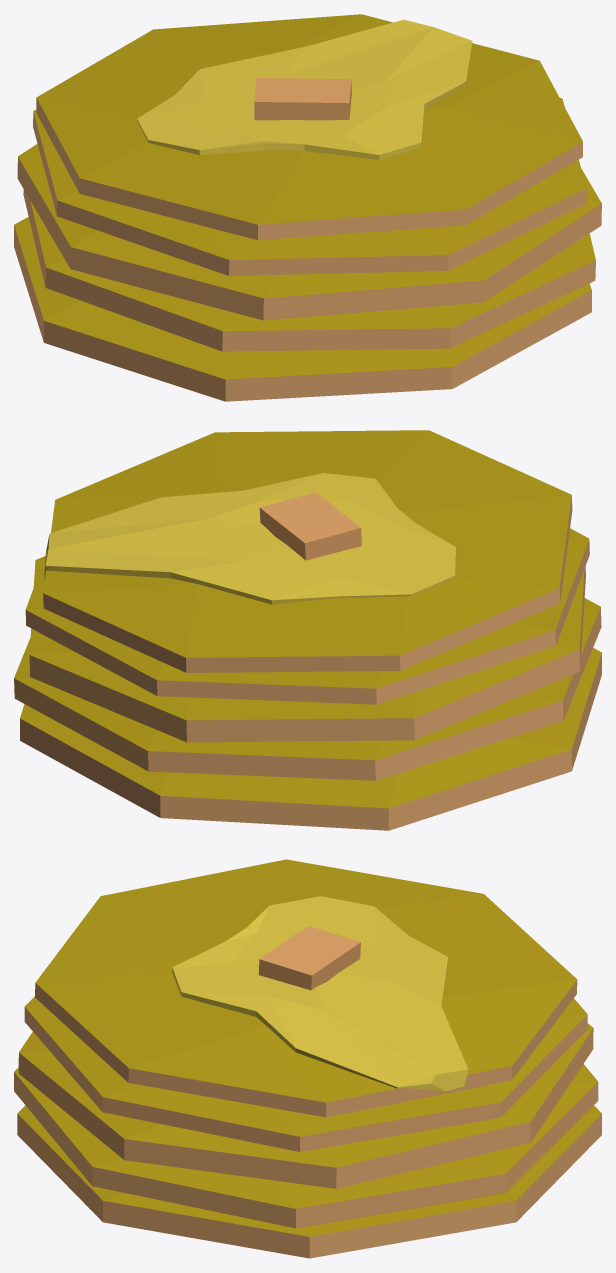
File: Pancakes_01.fbx
3 renders of one model, top to bottom at view 1: azimuth 30°, elevation 25°; view 2: azimuth 150°, elevation 25°; view 3: azimuth 270°, elevation 25°, orthographic. The views are drawn at different scales.
Parts seen in each view (by area): view 1: Pancakes_01; view 2: Pancakes_01; view 3: Pancakes_01.
Boxes of the visible parts, bbox=[...] form: Pancakes_01: bbox=[14, 14, 601, 401]; Pancakes_01: bbox=[14, 430, 601, 830]; Pancakes_01: bbox=[14, 859, 601, 1258].
Bounding box in the file's own units: 21.92 × 8.18 × 21.83.
